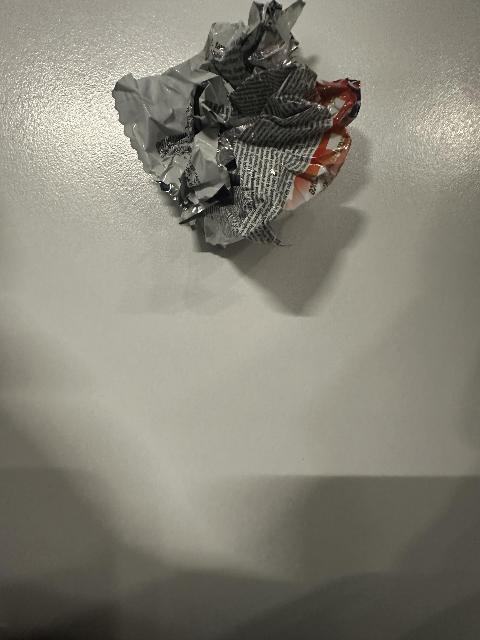Plastik: (114, 0, 378, 240)
